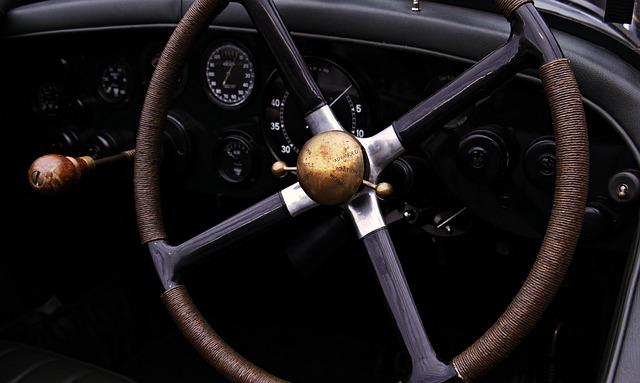Non_Gorille: (7, 0, 640, 383)
